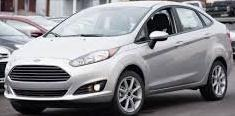Cars: (5, 3, 232, 116)
